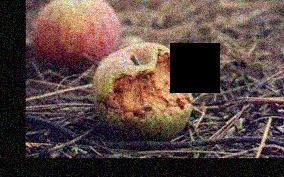rotten apple: (92, 41, 203, 141)
